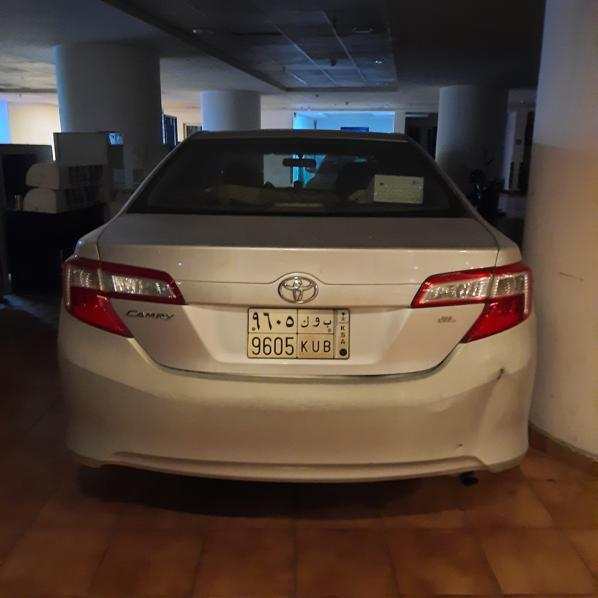numberplate: (248, 309, 351, 360)
